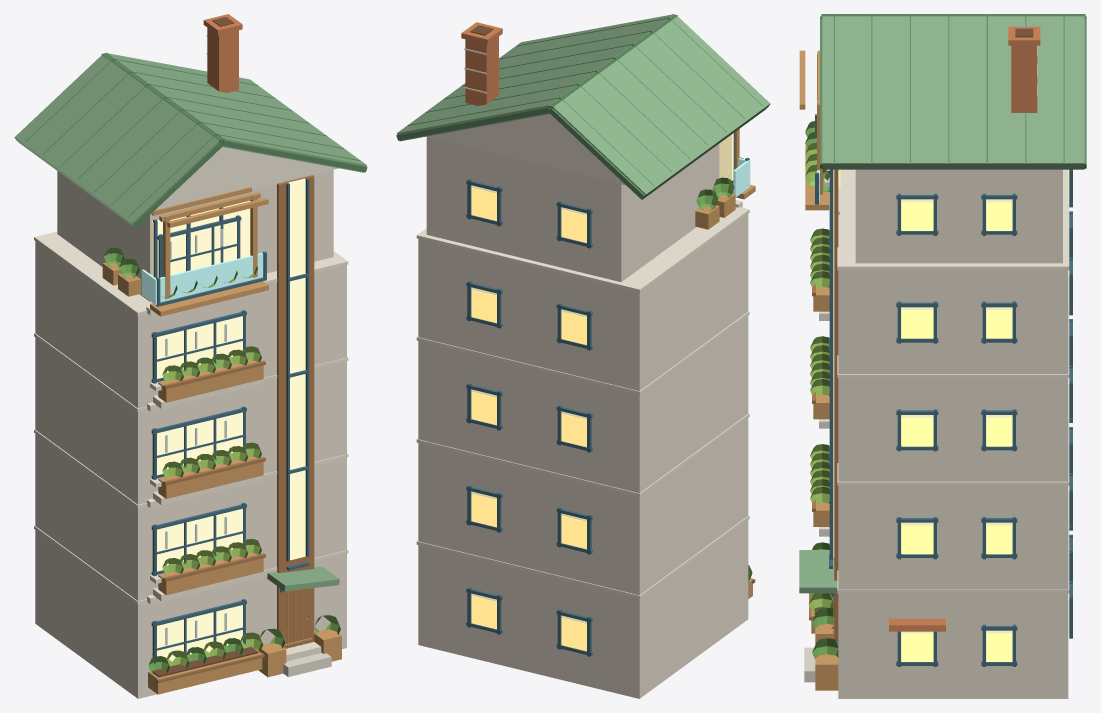
File: house-l05.glb
3 views of the same model, side by side, from view 1: azimuth 30°, elevation 25°; view 2: azimuth 150°, elevation 25°; view 3: azimuth 270°, elevation 25° (orthographic). The views are drawn at different scales.
Parts seen in each view (by area): view 1: Residential_L05; view 2: Residential_L05; view 3: Residential_L05.
Part boxes in pixels (x1,y1,x2,y2): Residential_L05: (14, 14, 367, 698); Residential_L05: (396, 14, 770, 698); Residential_L05: (799, 14, 1086, 698).
Size of the model in its own units: 6.15 by 14.23 by 5.76.
